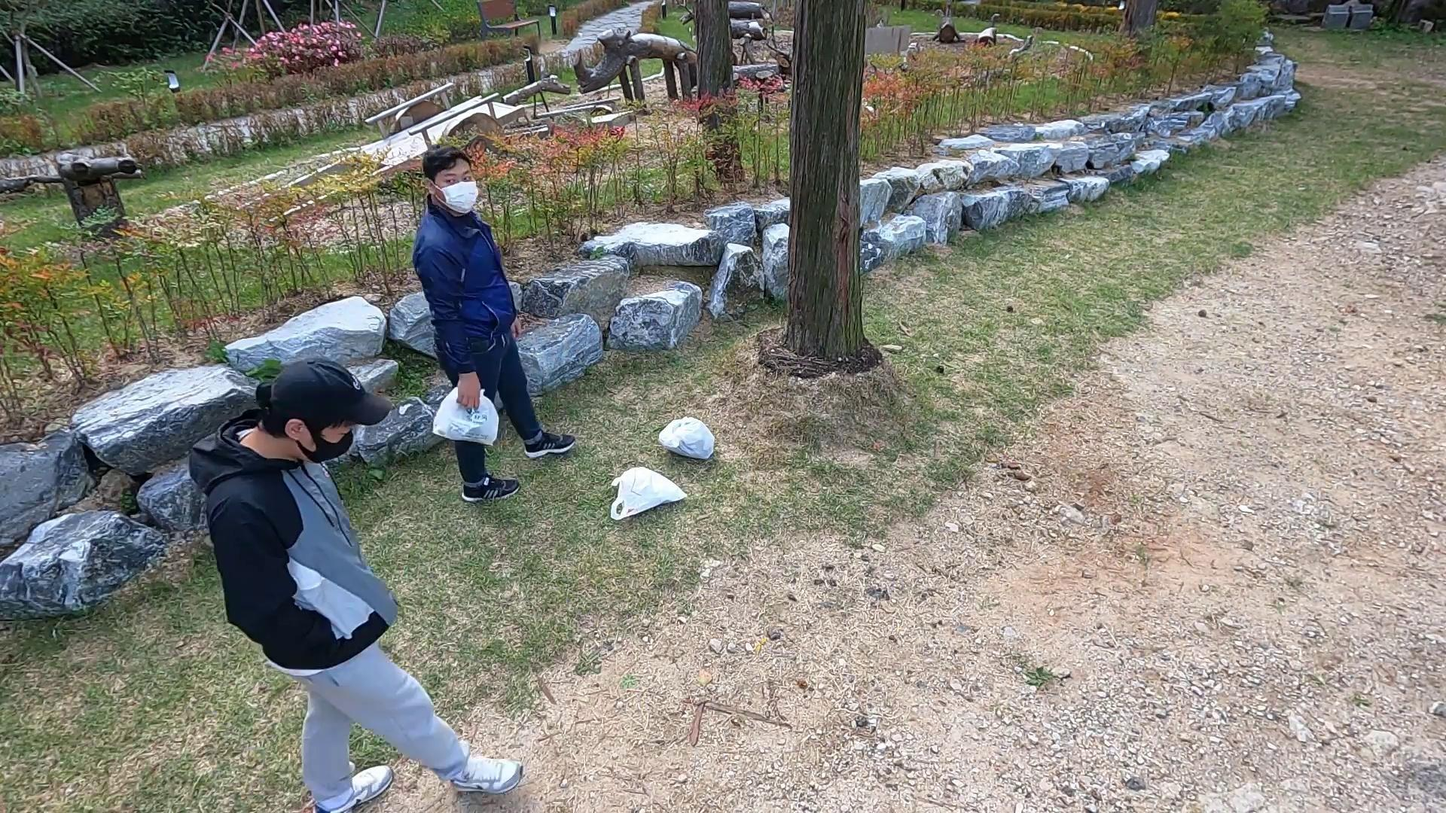person: (178, 355, 528, 813), (408, 141, 580, 505)
trash: (432, 377, 504, 452), (610, 465, 691, 525), (655, 404, 724, 470)
